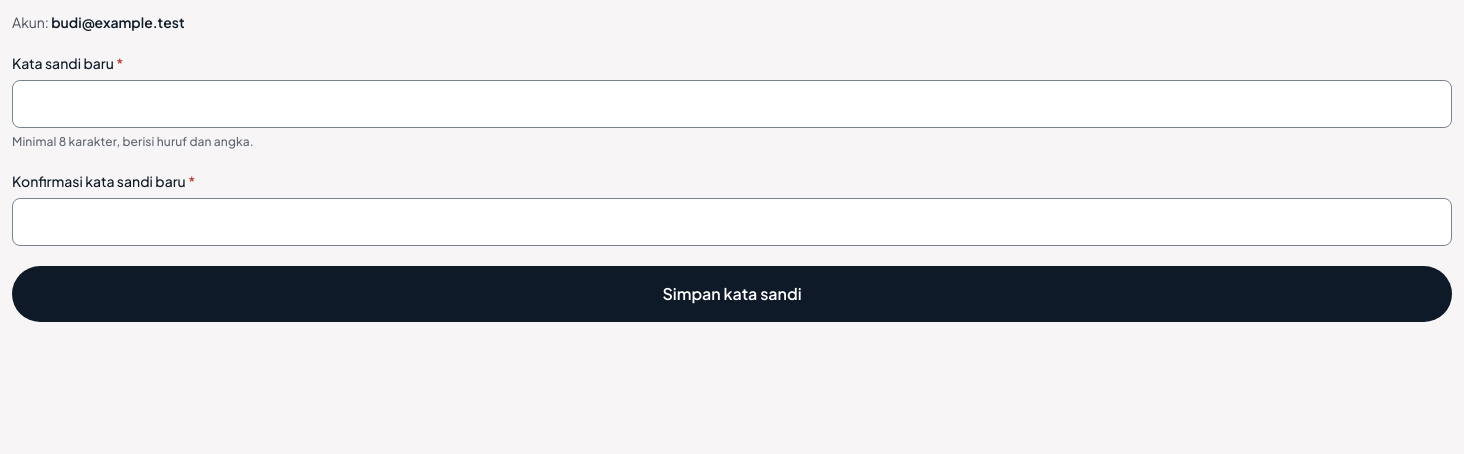
ResetForm › shows an expired token as an alert with a new-link action
Type "baru12345" into the password field labelled "Kata sandi baru *".
click(732, 104); type("baru12345")  # box [12, 80, 1452, 128]
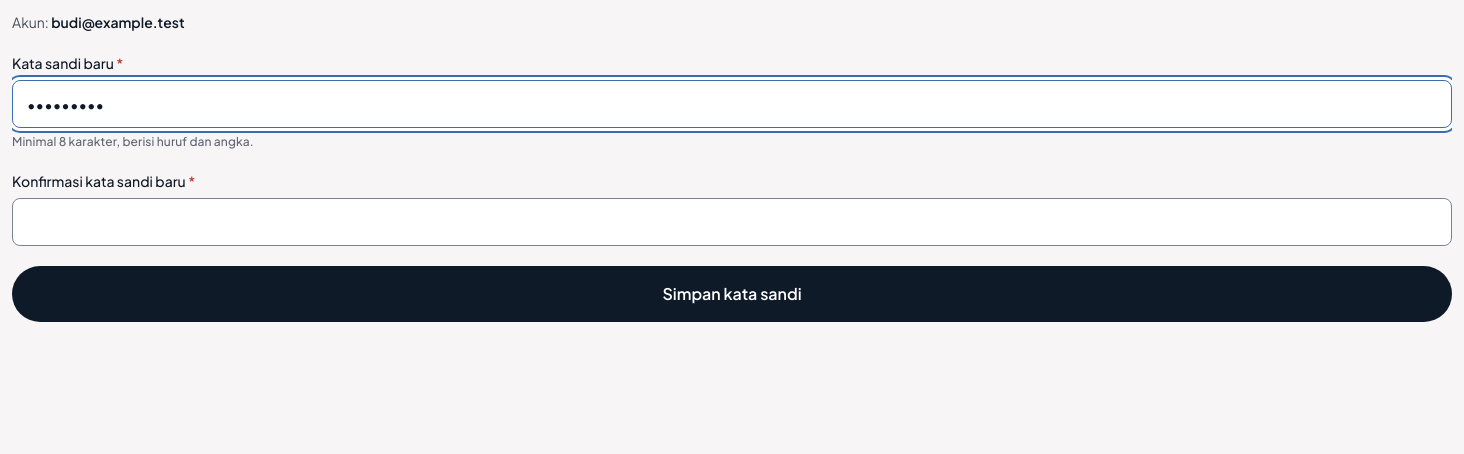
Type "baru12345" into the password field labelled "Konfirmasi kata sandi baru *".
click(732, 222); type("baru12345")  # box [12, 198, 1452, 246]
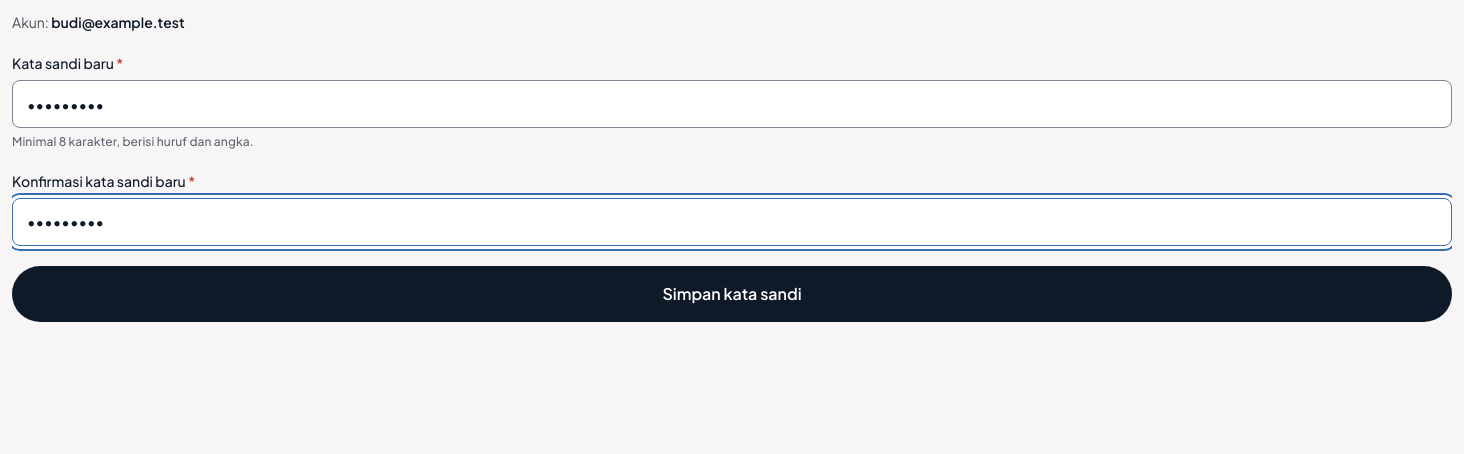
Click the button "Simpan kata sandi".
click(732, 294)  # box [12, 266, 1452, 322]
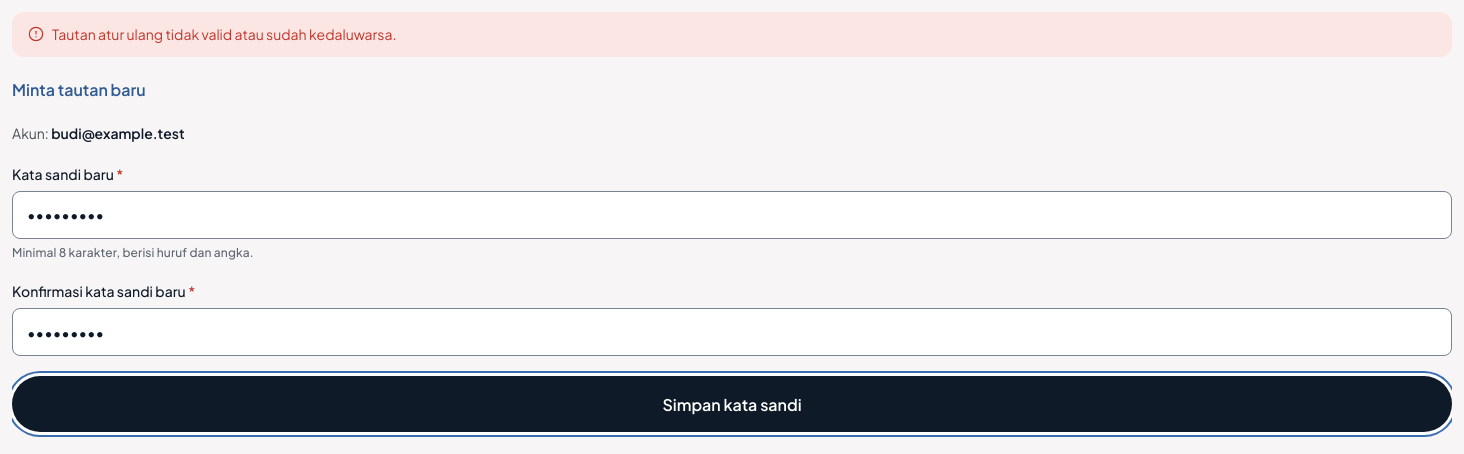
Now the message reads "Tautan atur ulang tidak valid atau sudah kedaluwarsa.", box [52, 25, 396, 43]
Now the link "Minta tautan baru" is shown, box [12, 79, 146, 100]
